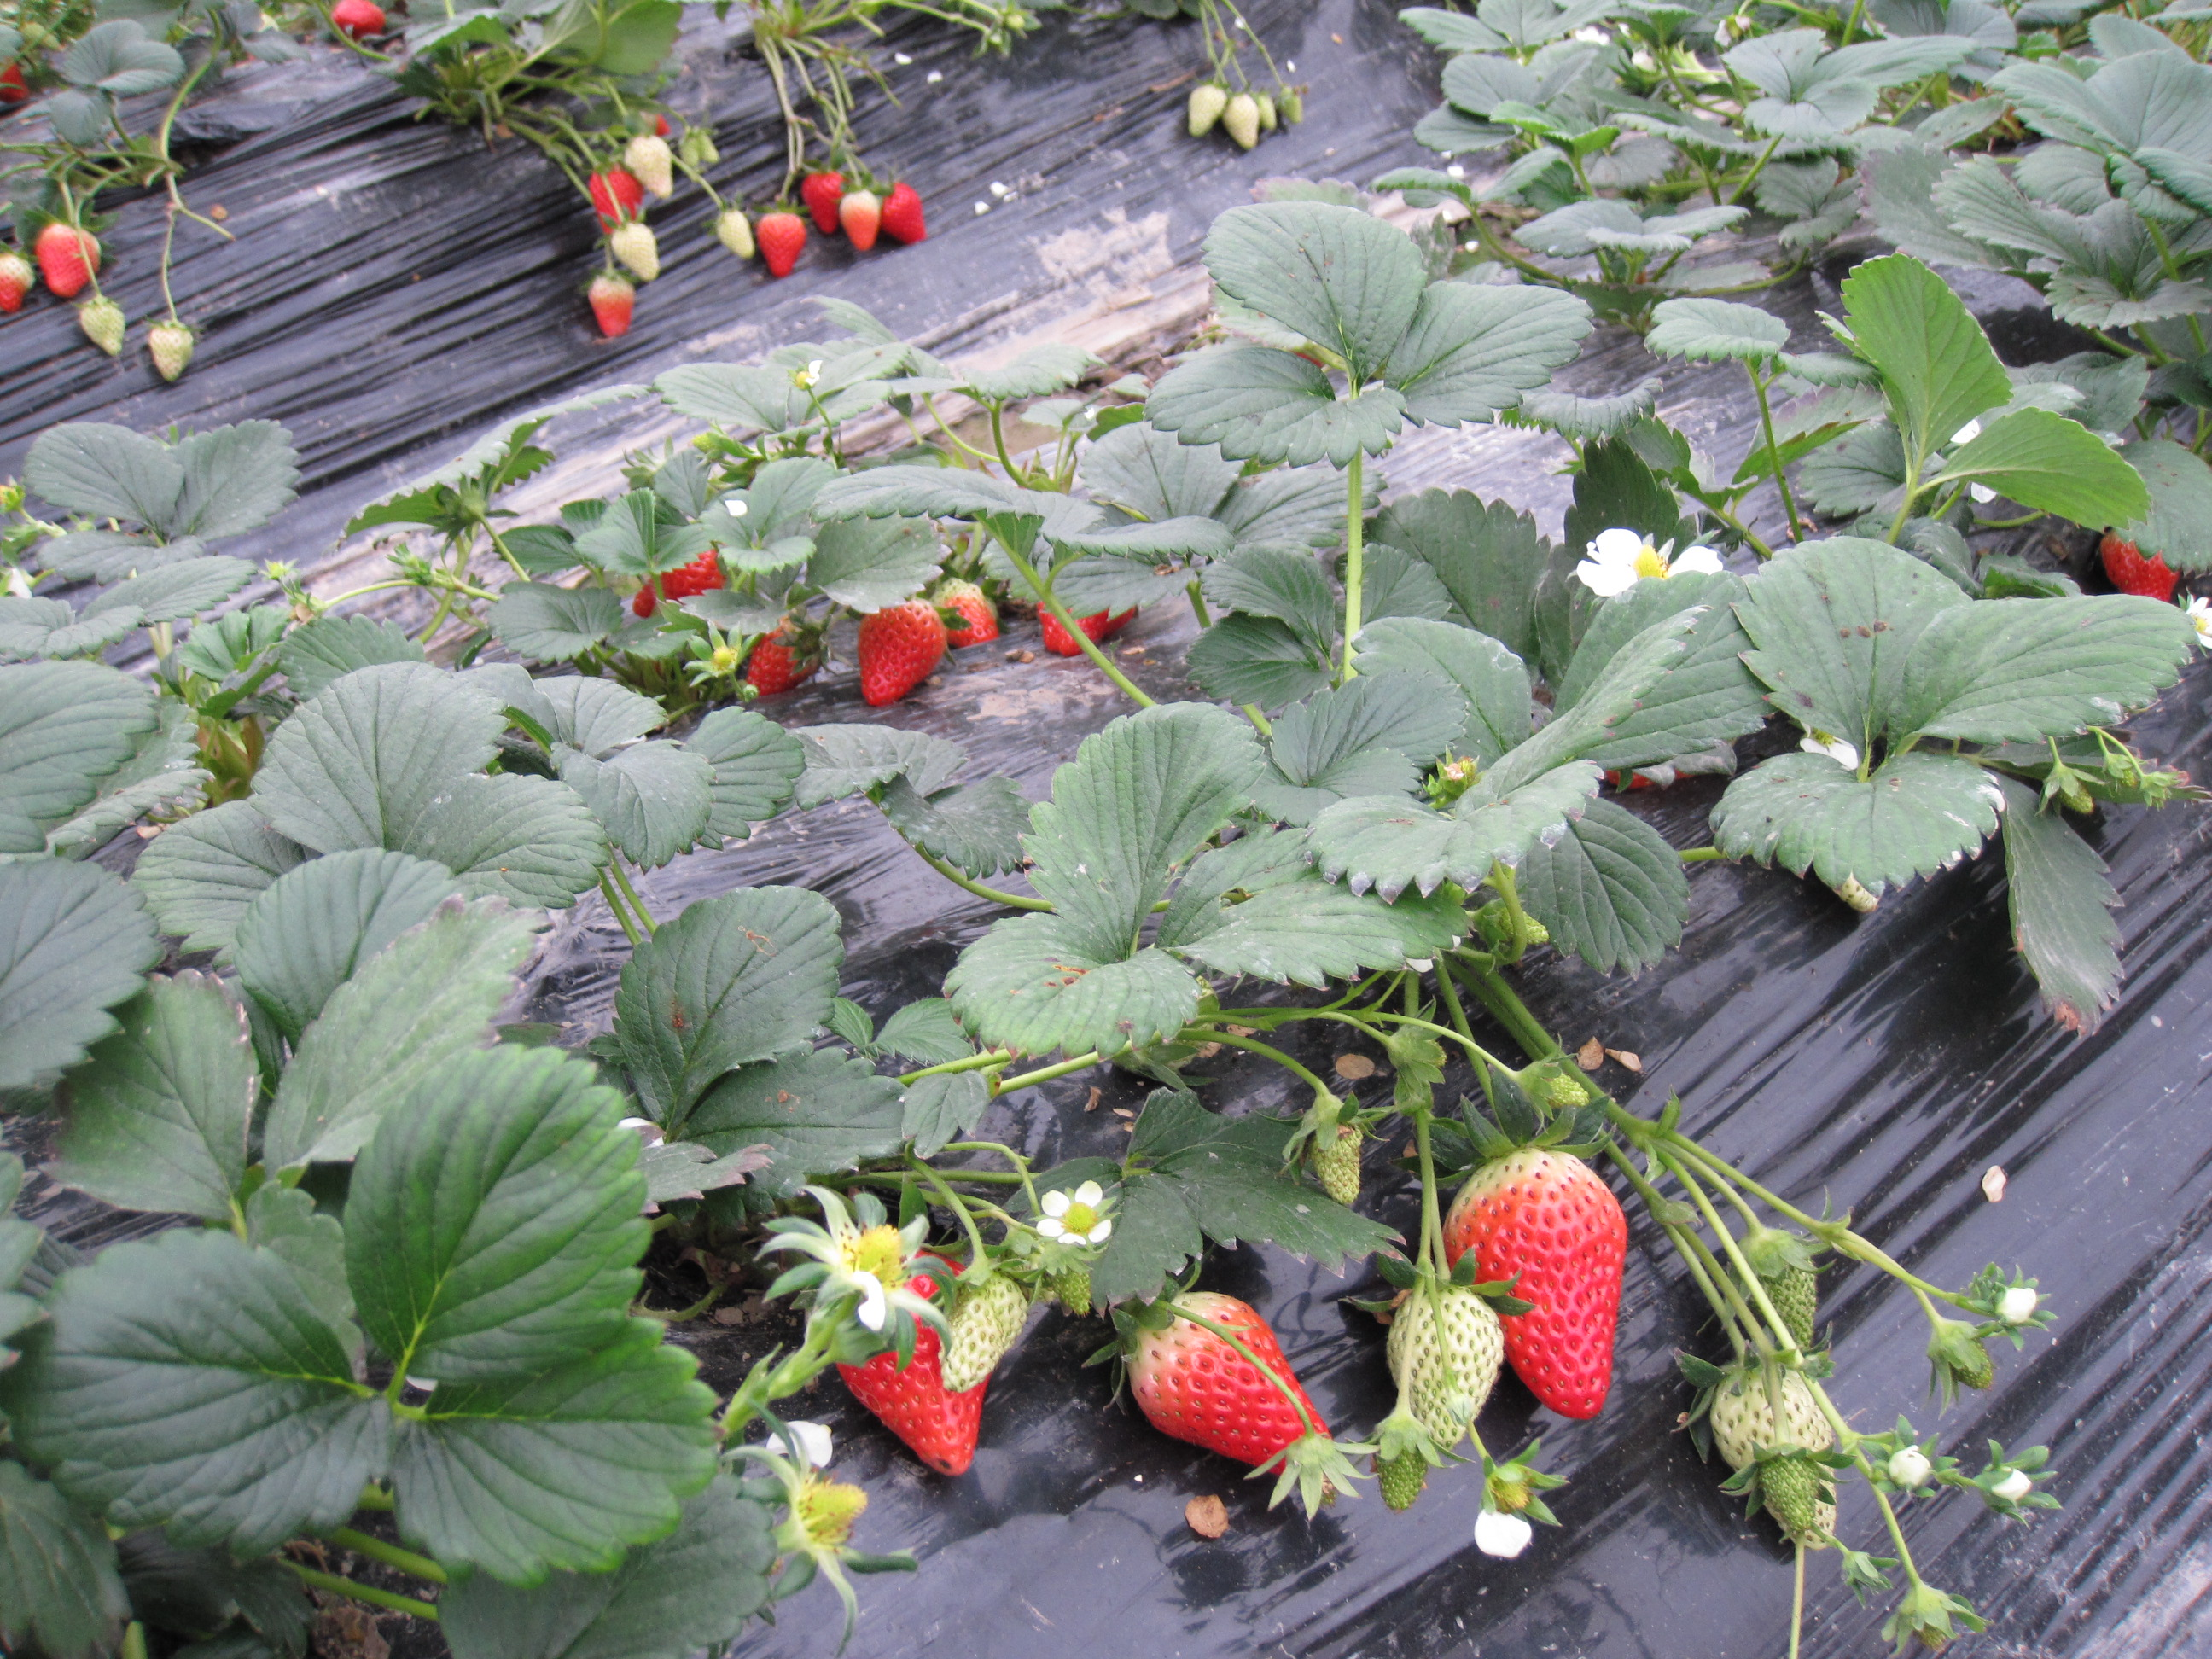StrawberryCone: (1447, 1121, 1637, 1436), (826, 1232, 991, 1476), (850, 591, 961, 704), (31, 214, 106, 305), (737, 207, 813, 275), (878, 178, 954, 246), (784, 159, 852, 234)
StrawberryIrremovable: (1118, 1276, 1345, 1490), (1371, 1272, 1529, 1466), (1700, 1361, 1844, 1547), (946, 1269, 1033, 1389), (1743, 1236, 1829, 1349), (1759, 1462, 1841, 1551), (1296, 1117, 1369, 1213), (928, 566, 1005, 648), (617, 117, 683, 202), (577, 270, 651, 342), (1369, 1424, 1428, 1513), (1172, 70, 1230, 141), (596, 227, 669, 282), (834, 185, 895, 249), (71, 298, 129, 354), (150, 324, 202, 382), (707, 197, 751, 263), (1233, 94, 1277, 152)
StrawberryOther: (618, 523, 752, 647), (2083, 491, 2195, 610), (1033, 559, 1157, 657), (740, 612, 808, 697), (315, 2, 406, 61), (570, 160, 637, 228)
StrawberryRemovable: (1456, 1127, 1632, 1429), (827, 1241, 988, 1473), (629, 519, 742, 641), (2085, 497, 2188, 613), (855, 596, 958, 704), (1038, 566, 1151, 653), (735, 608, 813, 701), (37, 221, 105, 305), (317, 0, 408, 63), (780, 164, 855, 237), (573, 164, 646, 228), (880, 183, 946, 247), (747, 209, 808, 277)
